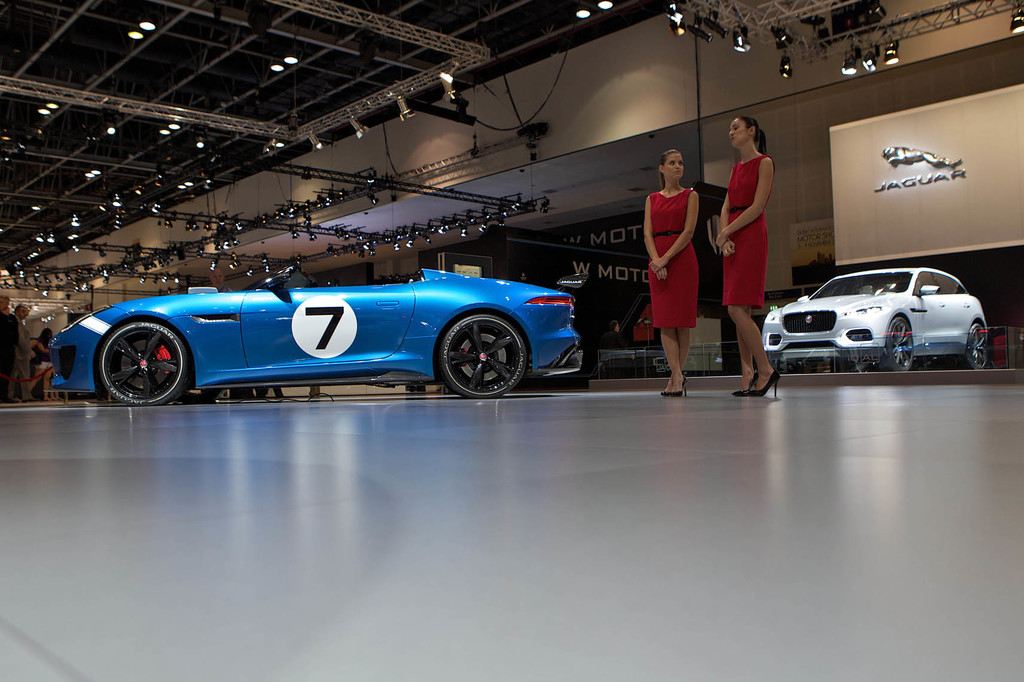Car: (42, 266, 588, 401), (757, 262, 993, 373)
